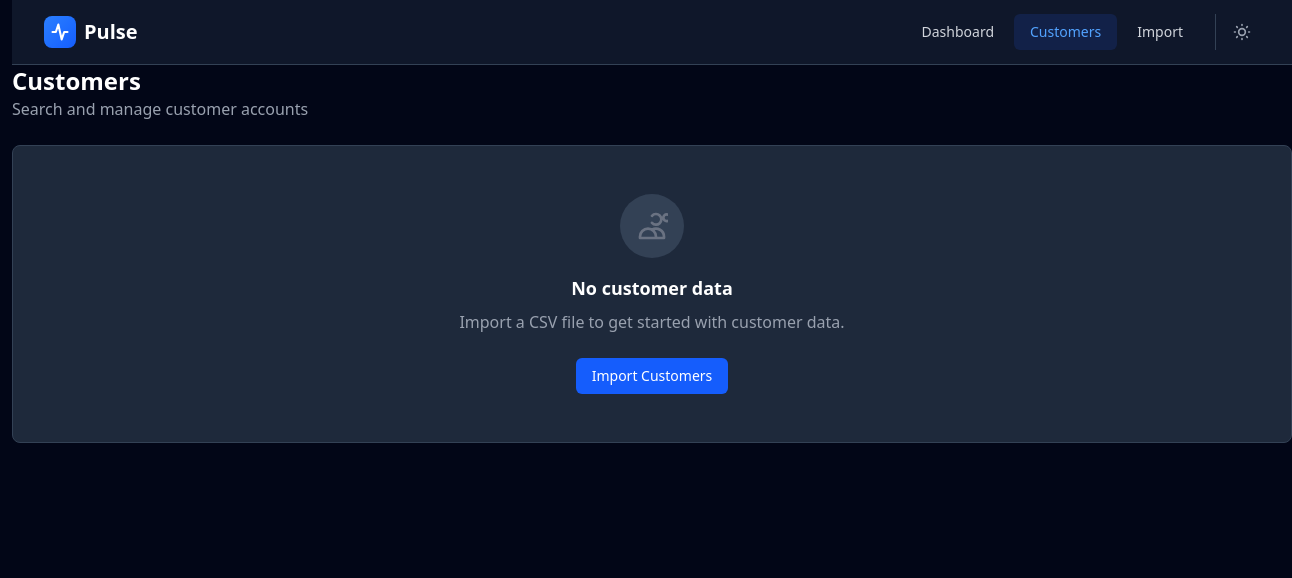
Test case: Navigation Flow Integration › Header Navigation › should navigate from customers to dashboard
Click the link "Dashboard": (958, 32) [922,22,994,41]
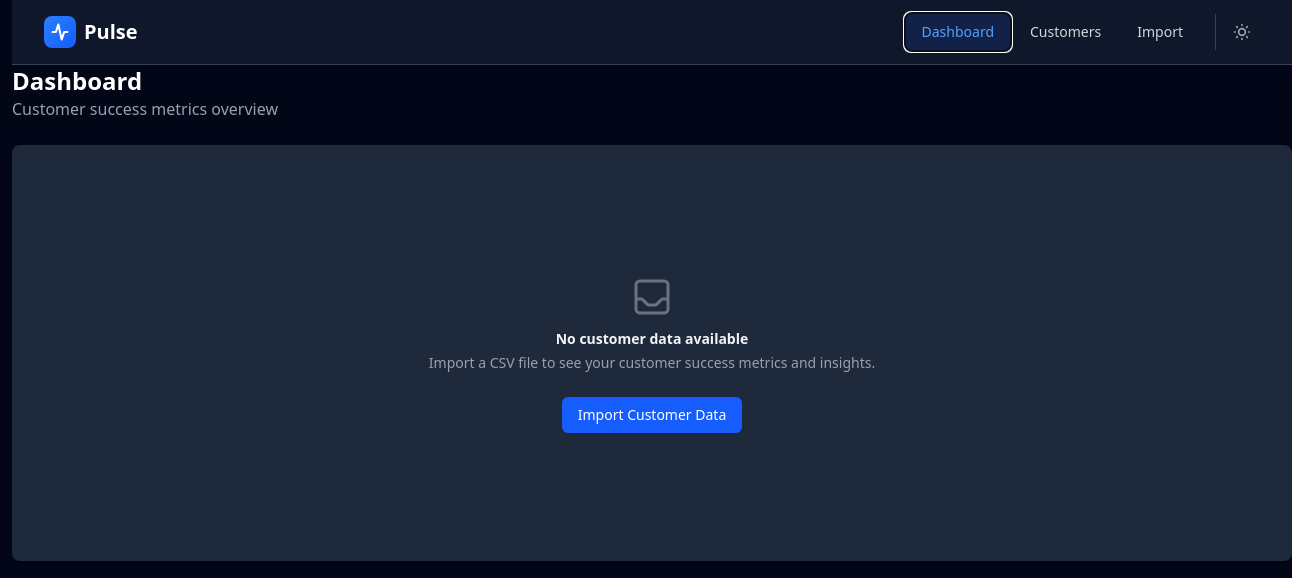
Expected: the heading "Dashboard" is shown, [12,64,142,97]
